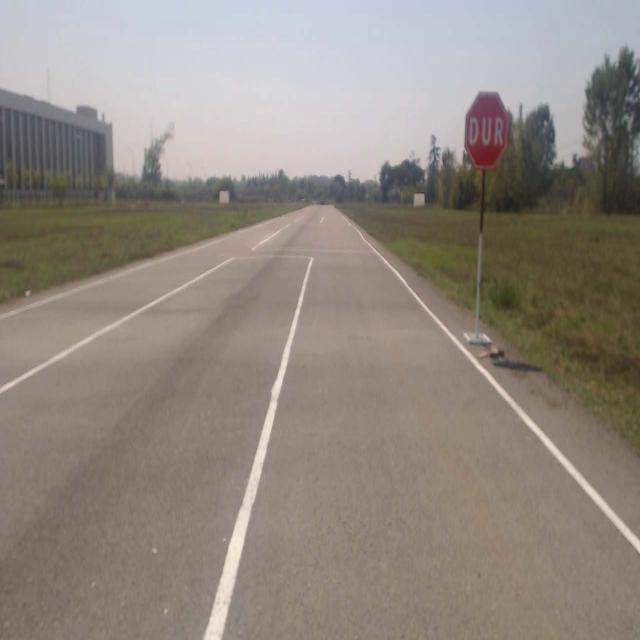dur: (466, 90, 508, 170)
